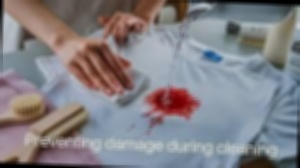blood: (145, 87, 200, 120)
